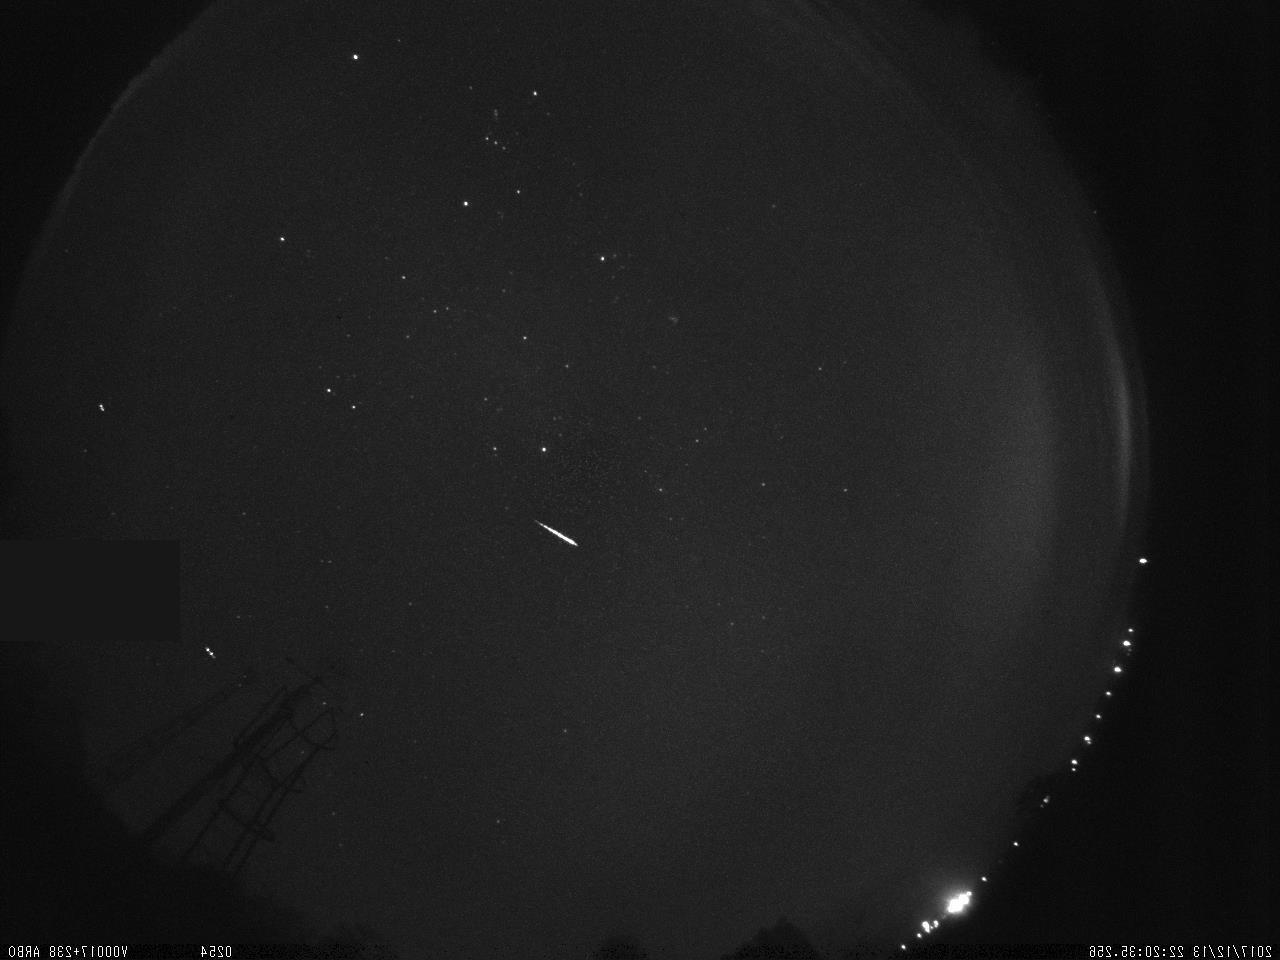meteor: (525, 510, 589, 558)
